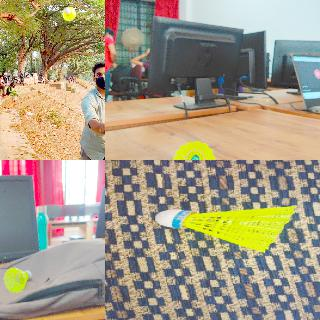shuttlecock: (153, 206, 298, 252), (172, 141, 217, 159), (3, 268, 31, 292), (62, 6, 76, 22)
